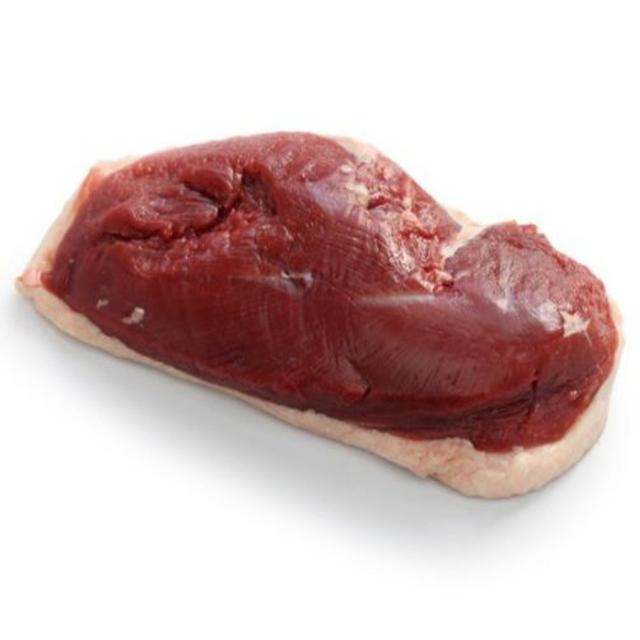duck: (0, 128, 640, 636), (16, 132, 622, 496)
